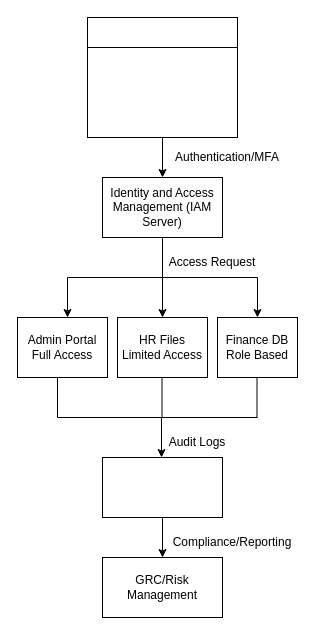
This 315x635 diagram has some shape labels left out. Here are the shapes that lost their labels. From the top down, the centre of each, then its label:
the point at 162,32: Users/Roles
the point at 162,92: Admin Manager Employee Contractor
the point at 162,487: Audit Logs and Monitoring (Centralized)
